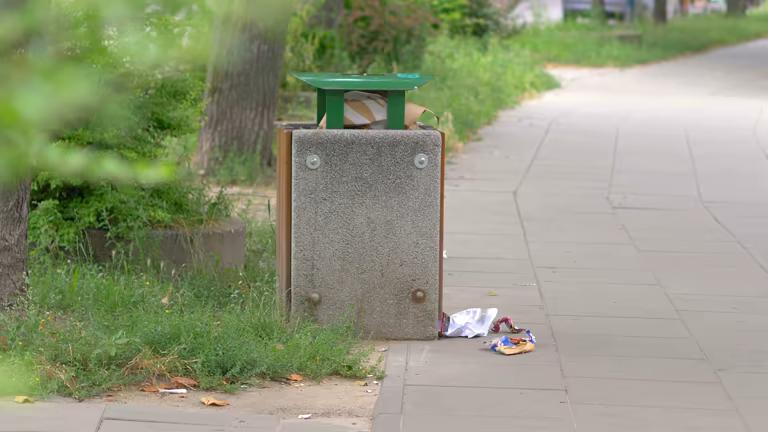trash: (316, 89, 452, 133), (432, 300, 503, 343), (484, 330, 542, 356), (484, 312, 528, 337), (150, 382, 189, 400)
trash_can_overflow: (272, 53, 543, 360)
